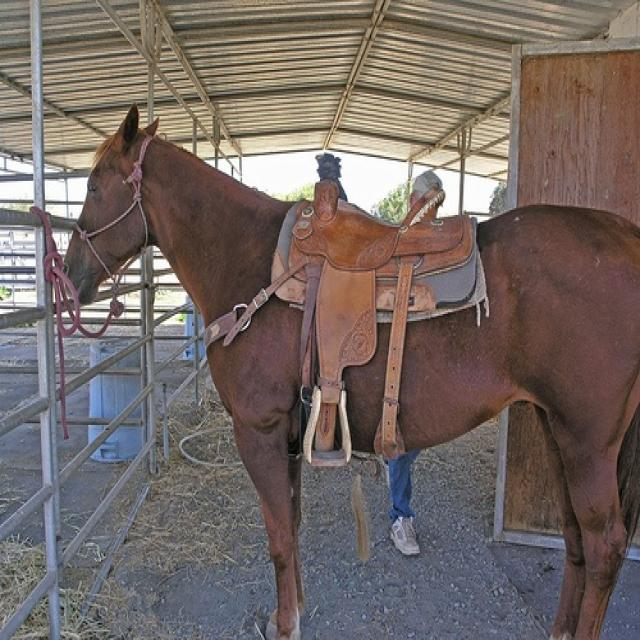horse: (59, 101, 639, 638)
